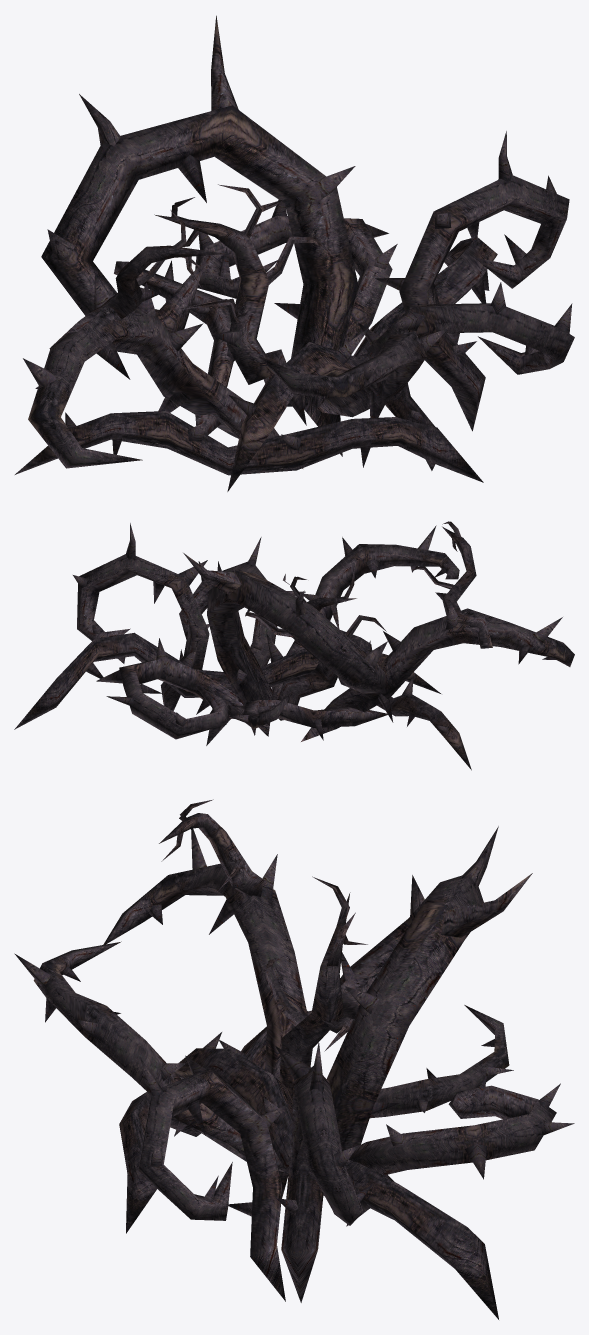
File: yw_mojiediyu_jingji01.FBX
3 renders of one model, top to bottom at view 1: azimuth 30°, elevation 25°; view 2: azimuth 150°, elevation 25°; view 3: azimuth 270°, elevation 25°, orthographic. The views are drawn at different scales.
Visible parts, largest first — view 1: yw_mojiediyu_jingji01; view 2: yw_mojiediyu_jingji01; view 3: yw_mojiediyu_jingji01.
Part boxes in pixels (x1,y1,x2,y2): yw_mojiediyu_jingji01: [15, 15, 574, 491]; yw_mojiediyu_jingji01: [14, 521, 574, 770]; yw_mojiediyu_jingji01: [14, 799, 574, 1319].
Bounding box in the file's own units: 232 × 138 × 182.
